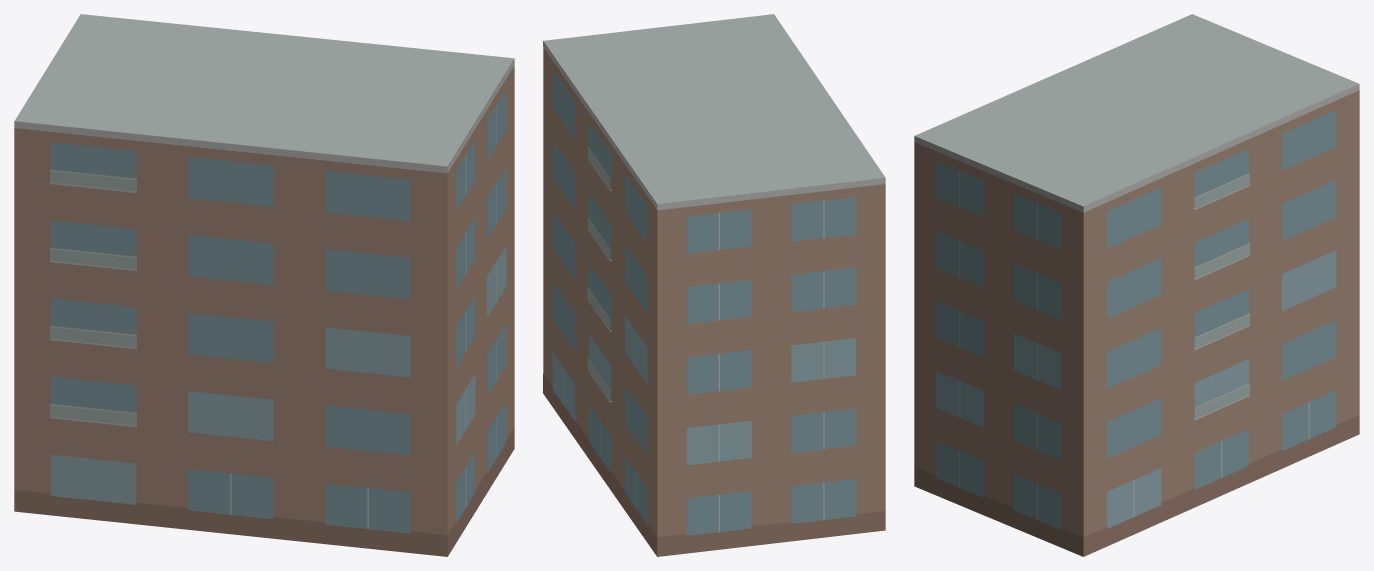
Rendered from survey-upis-32886550.glb.
3 renders of one model, left to right at view 1: azimuth 30°, elevation 25°; view 2: azimuth 150°, elevation 25°; view 3: azimuth 270°, elevation 25°, orthographic. The views are drawn at different scales.
Parts seen in each view (by area): view 1: survey-upis-32886550.tmp; view 2: survey-upis-32886550.tmp; view 3: survey-upis-32886550.tmp.
Part boxes in pixels (x1=…): survey-upis-32886550.tmp: x1=14, y1=14, x2=514, y2=556; survey-upis-32886550.tmp: x1=543, y1=14, x2=885, y2=556; survey-upis-32886550.tmp: x1=914, y1=14, x2=1359, y2=556.
Size of the model in its own units: 16.27 by 13.8 by 15.9.
